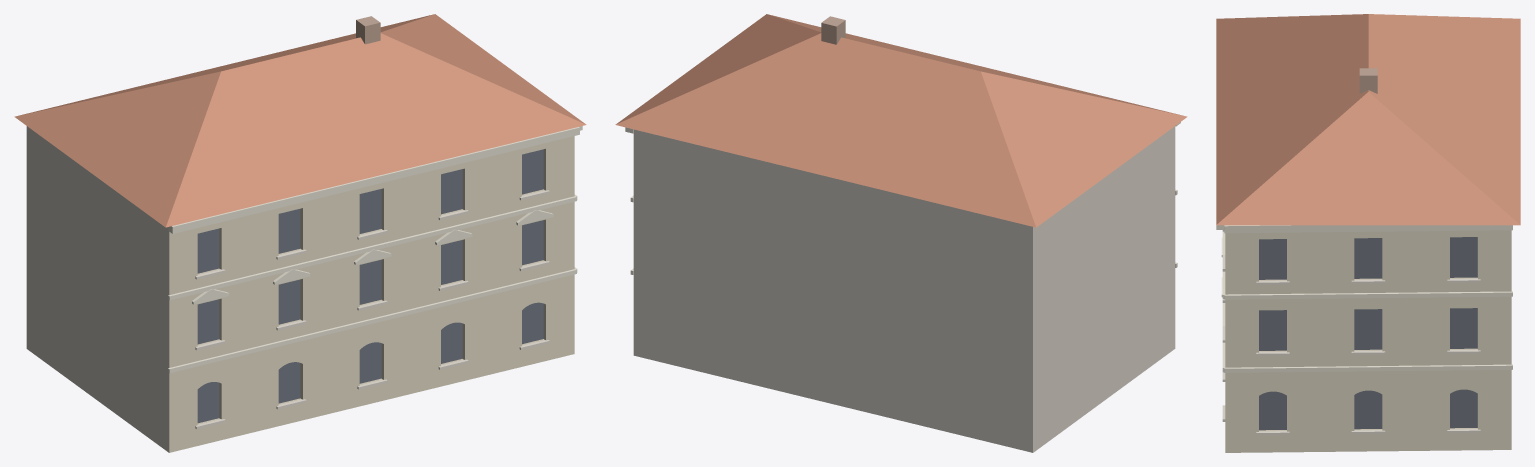
3 views of the same model, side by side, from view 1: azimuth 30°, elevation 25°; view 2: azimuth 150°, elevation 25°; view 3: azimuth 270°, elevation 25° (orthographic).
Parts seen in each view (by area): view 1: CP_437_Masonry, CP_437_Roof, CP_437_Cornice_main_eave_0, CP_437_Cornice_main_string1_0, CP_437_Cornice_main_string2_0, CP_437_Chimney_0; view 2: CP_437_Masonry, CP_437_Roof, CP_437_Chimney_0; view 3: CP_437_Roof, CP_437_Masonry, CP_437_Cornice_right_r_eave_0, CP_437_Cornice_right_r_string2_0, CP_437_Cornice_right_r_string1_0, CP_437_Chimney_0.
Boxes of the visible parts, x1=… form: CP_437_Masonry: x1=26, y1=126, x2=574, y2=452; CP_437_Roof: x1=14, y1=14, x2=586, y2=227; CP_437_Cornice_main_eave_0: x1=168, y1=127, x2=579, y2=233; CP_437_Cornice_main_string1_0: x1=168, y1=269, x2=576, y2=373; CP_437_Cornice_main_string2_0: x1=168, y1=196, x2=576, y2=300; CP_437_Chimney_0: x1=356, y1=16, x2=380, y2=44; CP_437_Masonry: x1=633, y1=126, x2=1175, y2=452; CP_437_Roof: x1=615, y1=14, x2=1187, y2=227; CP_437_Chimney_0: x1=821, y1=16, x2=845, y2=44; CP_437_Roof: x1=1216, y1=14, x2=1520, y2=225; CP_437_Masonry: x1=1225, y1=230, x2=1511, y2=452; CP_437_Cornice_right_r_eave_0: x1=1224, y1=225, x2=1512, y2=233; CP_437_Cornice_right_r_string2_0: x1=1224, y1=291, x2=1512, y2=299; CP_437_Cornice_right_r_string1_0: x1=1224, y1=364, x2=1512, y2=372; CP_437_Chimney_0: x1=1359, y1=68, x2=1377, y2=93.
Bounding box in the file's own units: 21.79 × 15.5 × 13.58.
